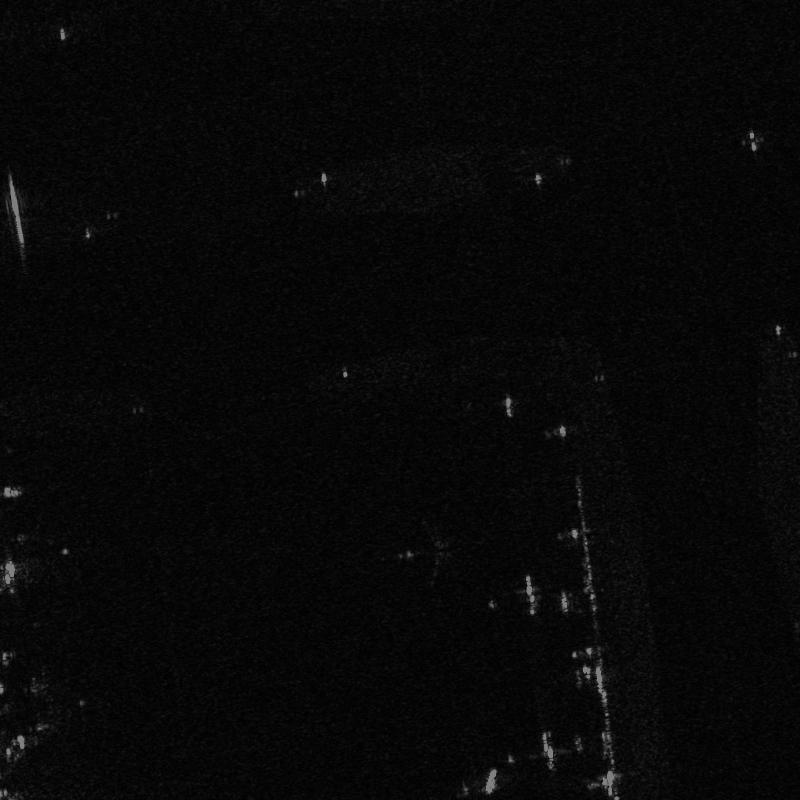Boeing737: (388, 516, 463, 592)
